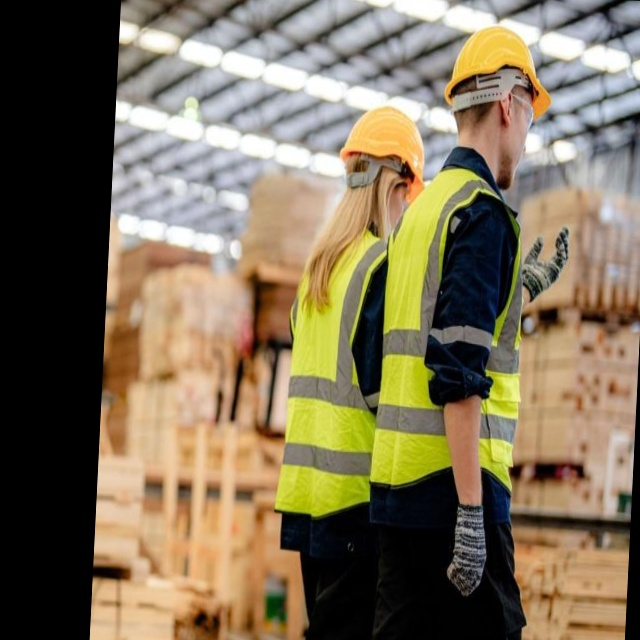Con_Chaleco: (370, 166, 529, 496), (276, 219, 389, 518)
